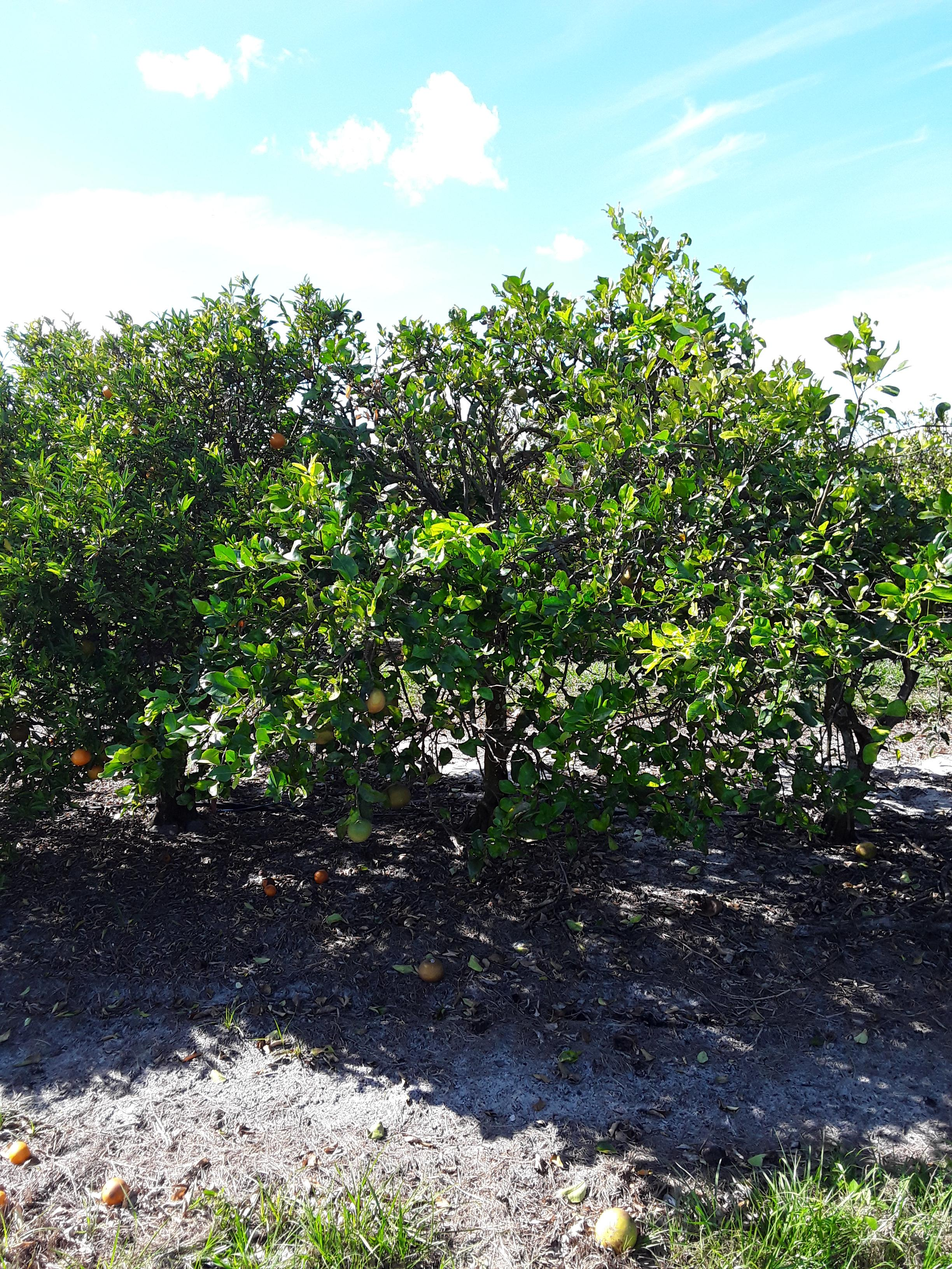fruit_on_ground: (381, 780, 413, 811), (343, 815, 374, 843), (362, 687, 388, 715), (616, 563, 642, 589), (74, 636, 98, 659), (68, 745, 93, 767), (8, 722, 31, 743), (86, 762, 107, 782), (267, 431, 288, 451), (144, 465, 165, 484), (100, 383, 117, 400)
fruit_on_tree: (592, 1203, 640, 1257), (100, 1176, 131, 1208), (415, 955, 446, 986), (5, 1138, 32, 1166), (852, 838, 880, 862), (695, 895, 723, 918), (312, 866, 331, 886), (0, 1180, 9, 1218), (262, 883, 278, 898), (261, 876, 276, 889)
